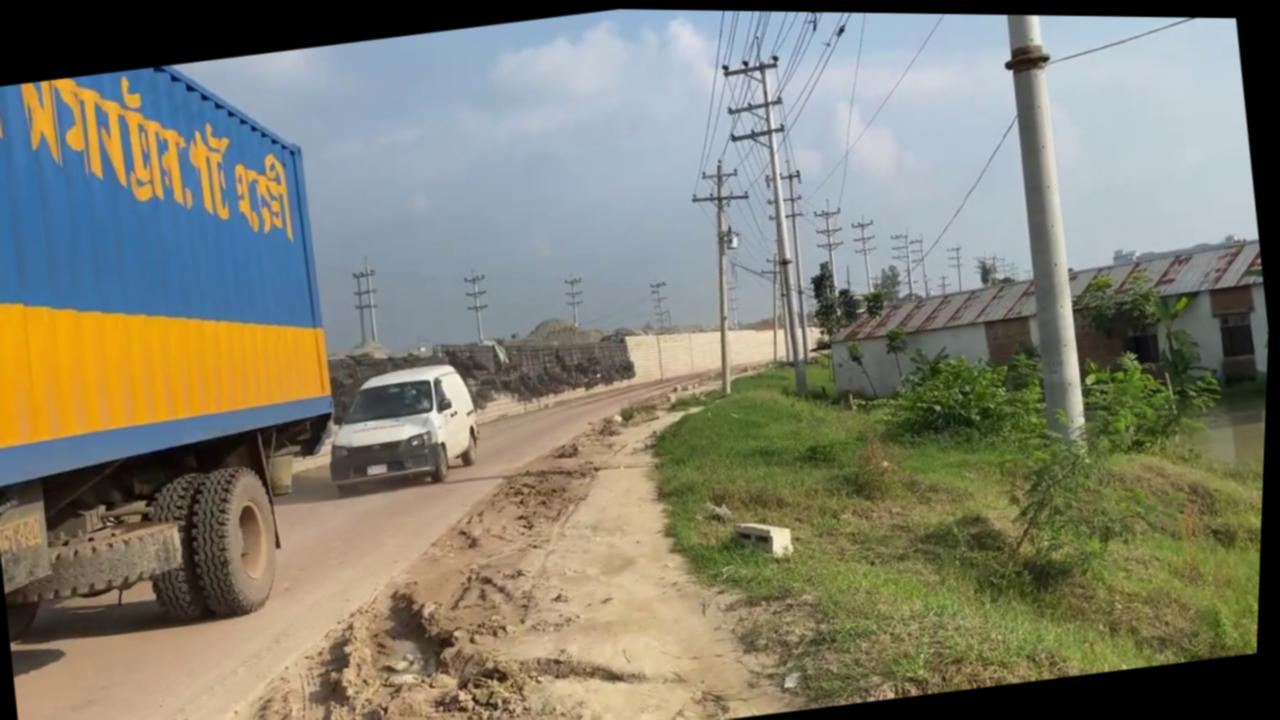Car: (319, 355, 491, 495)
Muddy road: (0, 346, 813, 720)
Pole: (980, 12, 1107, 462), (681, 154, 777, 394)
Tree: (0, 44, 375, 649)
